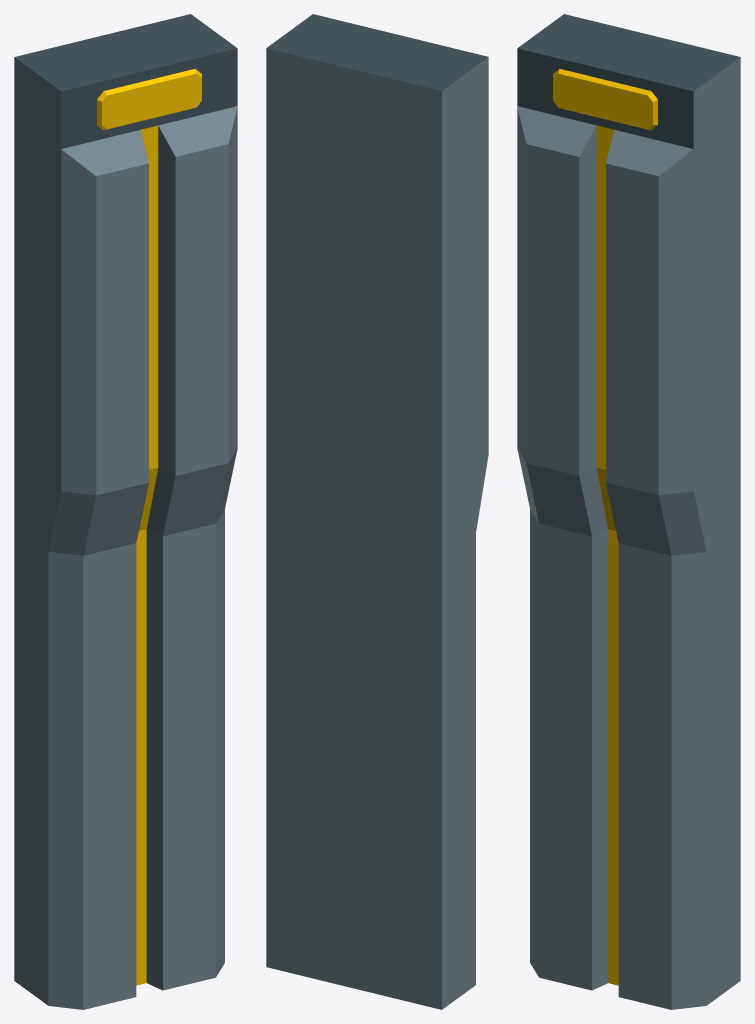
Rendered from Wall_type_C_022.fbx.
3 views of the same model, side by side, from view 1: azimuth 30°, elevation 25°; view 2: azimuth 150°, elevation 25°; view 3: azimuth 330°, elevation 25° (orthographic).
Parts seen in each view (by area): view 1: Wall_type_C_022; view 2: Wall_type_C_022; view 3: Wall_type_C_022.
Part boxes in pixels (<box>): Wall_type_C_022: <box>14,14,237,1009</box>; Wall_type_C_022: <box>266,14,488,1009</box>; Wall_type_C_022: <box>517,14,740,1009</box>.
Size of the model in its own units: 80 by 46.98 by 400.
